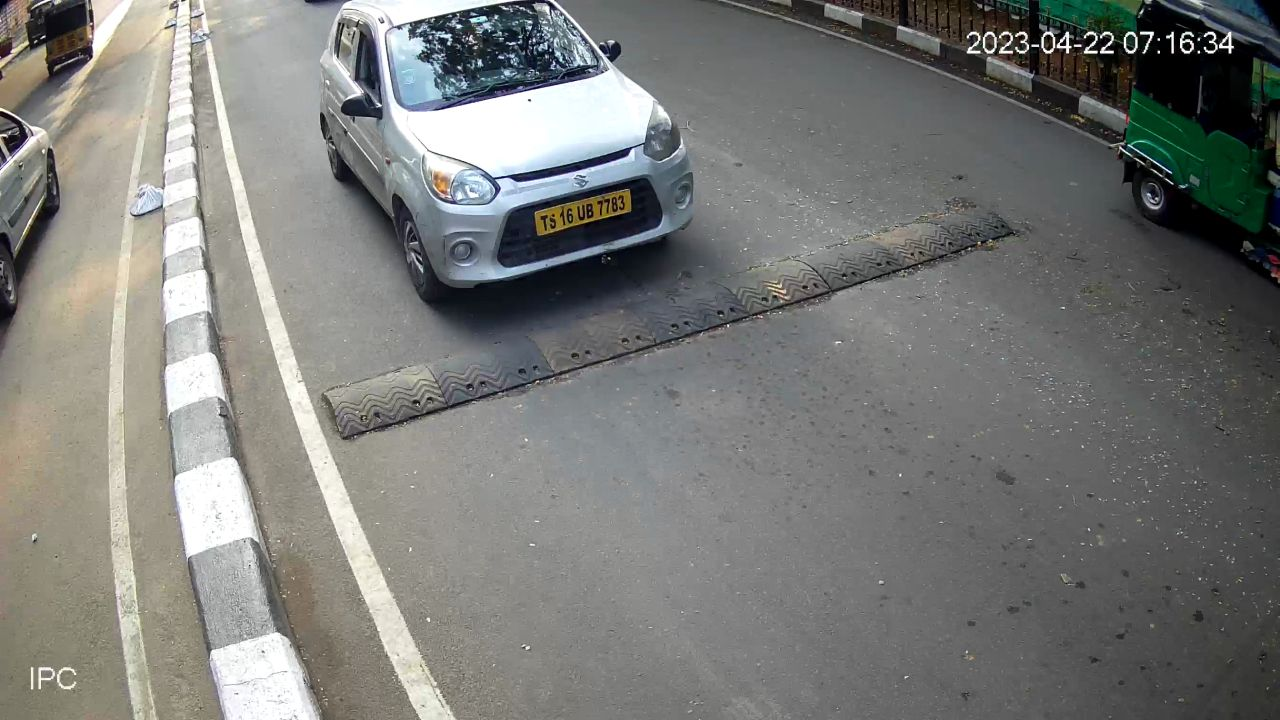license_plate: (534, 187, 639, 239)
